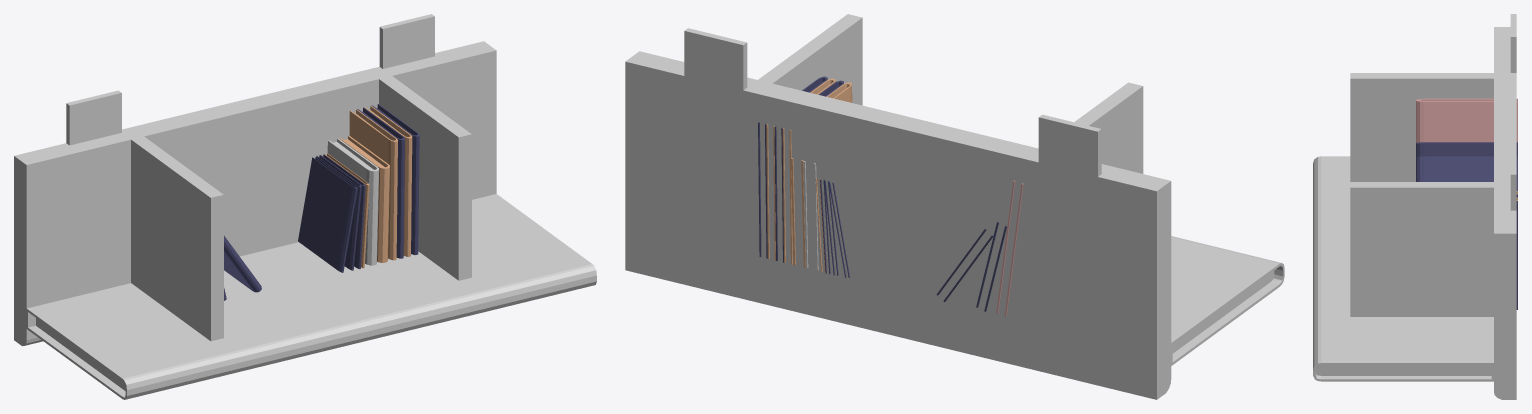
3 renders of one model, left to right at view 1: azimuth 30°, elevation 25°; view 2: azimuth 150°, elevation 25°; view 3: azimuth 270°, elevation 25°, orthographic. The views are drawn at different scales.
Parts seen in each view (by area): view 1: polySurface162; view 2: polySurface162; view 3: polySurface162.
Boxes of the visible parts, left/top/right/bottom form: polySurface162: left=14, top=14, right=596, bottom=399; polySurface162: left=625, top=14, right=1284, bottom=399; polySurface162: left=1313, top=14, right=1517, bottom=399.
Bounding box in the file's own units: 18.78 × 8.57 × 7.87.
